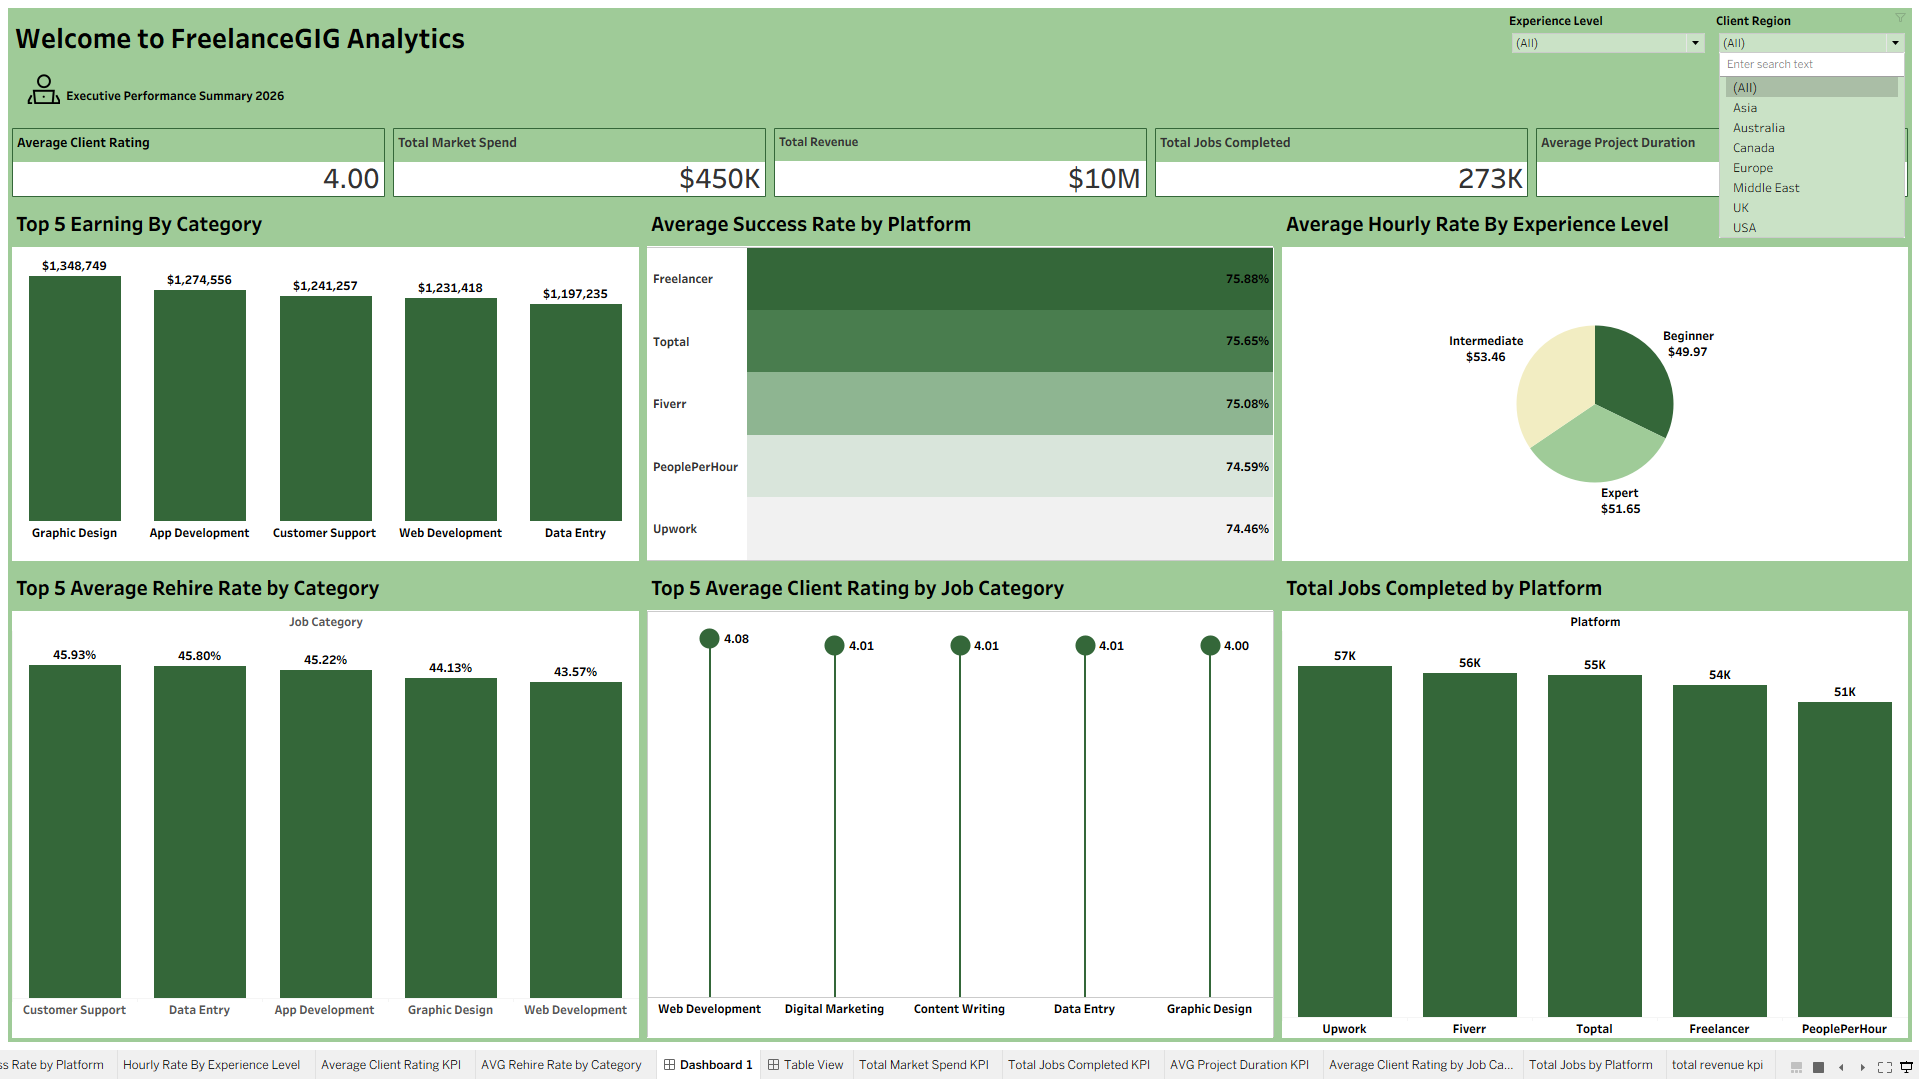

What the dashboard file says about the page in this screenshot:
{"tool":"tableau","page":{"name":"Dashboard 1","canvas":[1000,1000],"units":"permille","ordinal":0},"visuals":[{"type":"text","box":[4.2,8.9,779.3,54.6]},{"type":"filter","title":"Earning by category","param":"[federated.15co35p1tv1keg14zil7w0gue6a8].[none:Experience_Level:nk]","box":[783.5,8.9,108,109.9]},{"type":"filter","title":"Earning by category","param":"[federated.15co35p1tv1keg14zil7w0gue6a8].[none:Client_Region:nk]","box":[891.5,8.9,104.3,109.9]},{"type":"text","box":[4.2,63.5,779.3,55.4]},{"type":"image","param":"Image/4213465-computer-freelancer-internet-office-online-work-working_115434.png","box":[14.3,68.1,17.2,32.4]},{"type":"worksheet","title":"Average Client Rating KPI","mark":"Automatic","box":[4.2,119.4,198.5,85.9]},{"type":"worksheet","title":"Total Market Spend KPI","mark":"Automatic","box":[202.8,119.4,198.5,85.9]},{"type":"worksheet","title":"total revenue kpi","mark":"Automatic","box":[401.3,119.4,198.5,85.9]},{"type":"worksheet","title":"Total Jobs Completed KPI","mark":"Automatic","box":[599.8,119.4,198,85.9]},{"type":"worksheet","title":"AVG Project Duration KPI","mark":"Automatic","box":[797.8,119.4,198,85.9]},{"type":"worksheet","title":"Earning by category","mark":"Automatic","rows":["Earnings_USD (Table 2 - Job & Earnings Data1)"],"cols":["Job_Category"],"box":[4.2,205.4,330.5,406.2]},{"type":"worksheet","title":"Sucess Rate by Platform","mark":"Square","rows":["Platform"],"box":[334.7,205.4,330.5,406.2]},{"type":"worksheet","title":"Hourly Rate By Experience Level","mark":"Automatic","rows":["Hourly_Rate (Table 2 - Job & Earnings Data1)"],"cols":["Experience_Level"],"box":[665.3,205.4,330.5,406.2]},{"type":"worksheet","title":"AVG Rehire Rate by Category","mark":"Automatic","rows":["Rehire_Rate (Table 2 - Job & Earnings Data1)"],"cols":["Job_Category"],"box":[4.2,611.6,330.5,379.5]},{"type":"worksheet","title":"Average Client Rating by Job Category","mark":"Bar","rows":["Client_Rating (Table 2 - Job & Earnings Data1)","Client_Rating (Table 2 - Job & Earnings Data1)"],"cols":["Job_Category"],"box":[334.7,611.6,330.5,379.5]},{"type":"worksheet","title":"Total Jobs by Platform","mark":"Automatic","rows":["Job_Completed (Table 2 - Job & Earnings Data1)"],"cols":["Platform"],"box":[665.3,611.6,330.5,379.5]}]}

Visuals, with their boxes on the dashboard's canvas, which has no fixed pixel size, in thousandths of its width and height (x1, y1, x2, y2). These are canvas units, not pixel positions in the 1919x1079 screenshot, which may show the page scaled, cropped or inside an application window:
text: [x1=4, y1=9, x2=784, y2=64]
"Earning by category" filter: [x1=784, y1=9, x2=892, y2=119]
"Earning by category" filter: [x1=892, y1=9, x2=996, y2=119]
text: [x1=4, y1=64, x2=784, y2=119]
image: [x1=14, y1=68, x2=32, y2=100]
"Average Client Rating KPI" worksheet: [x1=4, y1=119, x2=203, y2=205]
"Total Market Spend KPI" worksheet: [x1=203, y1=119, x2=401, y2=205]
"total revenue kpi" worksheet: [x1=401, y1=119, x2=600, y2=205]
"Total Jobs Completed KPI" worksheet: [x1=600, y1=119, x2=798, y2=205]
"AVG Project Duration KPI" worksheet: [x1=798, y1=119, x2=996, y2=205]
"Earning by category" worksheet: [x1=4, y1=205, x2=335, y2=612]
"Sucess Rate by Platform" worksheet (Square marks): [x1=335, y1=205, x2=665, y2=612]
"Hourly Rate By Experience Level" worksheet: [x1=665, y1=205, x2=996, y2=612]
"AVG Rehire Rate by Category" worksheet: [x1=4, y1=612, x2=335, y2=991]
"Average Client Rating by Job Category" worksheet (Bar marks): [x1=335, y1=612, x2=665, y2=991]
"Total Jobs by Platform" worksheet: [x1=665, y1=612, x2=996, y2=991]
